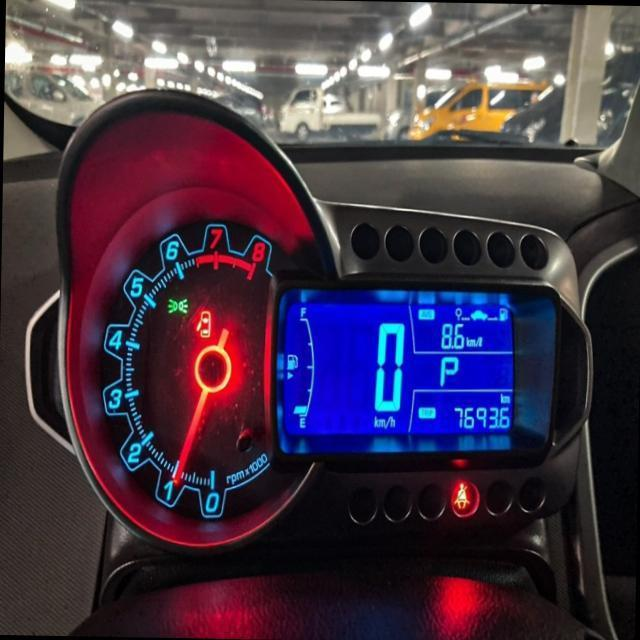Doors: (196, 309, 210, 337)
SideLamp: (164, 296, 187, 314)
